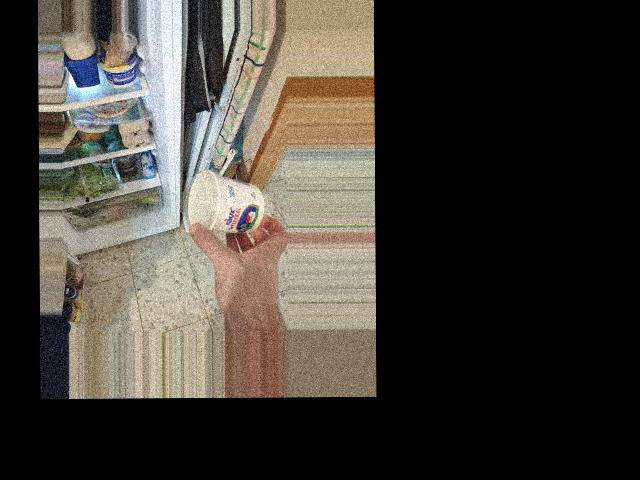cotage: (184, 167, 267, 245)
